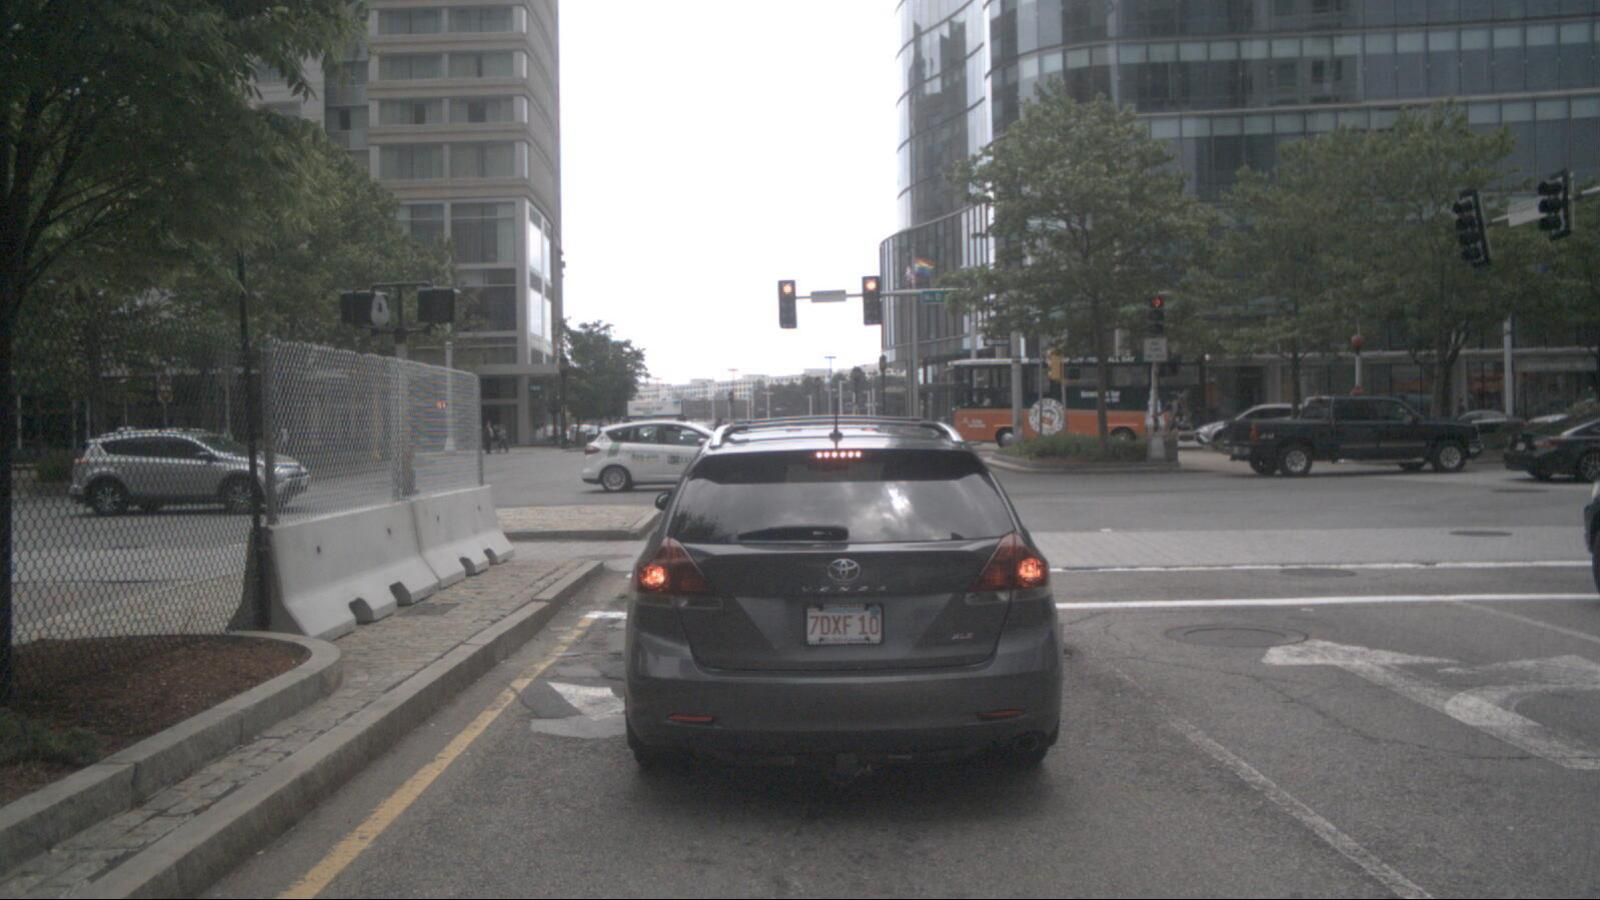human.pedestrian.adult-pedestrian.moving: (1157, 390, 1183, 451), (491, 424, 502, 454), (482, 424, 491, 456)
human.pedestrian.adult-pedestrian.standing: (1463, 389, 1477, 425), (1454, 395, 1467, 432), (495, 428, 510, 456)
